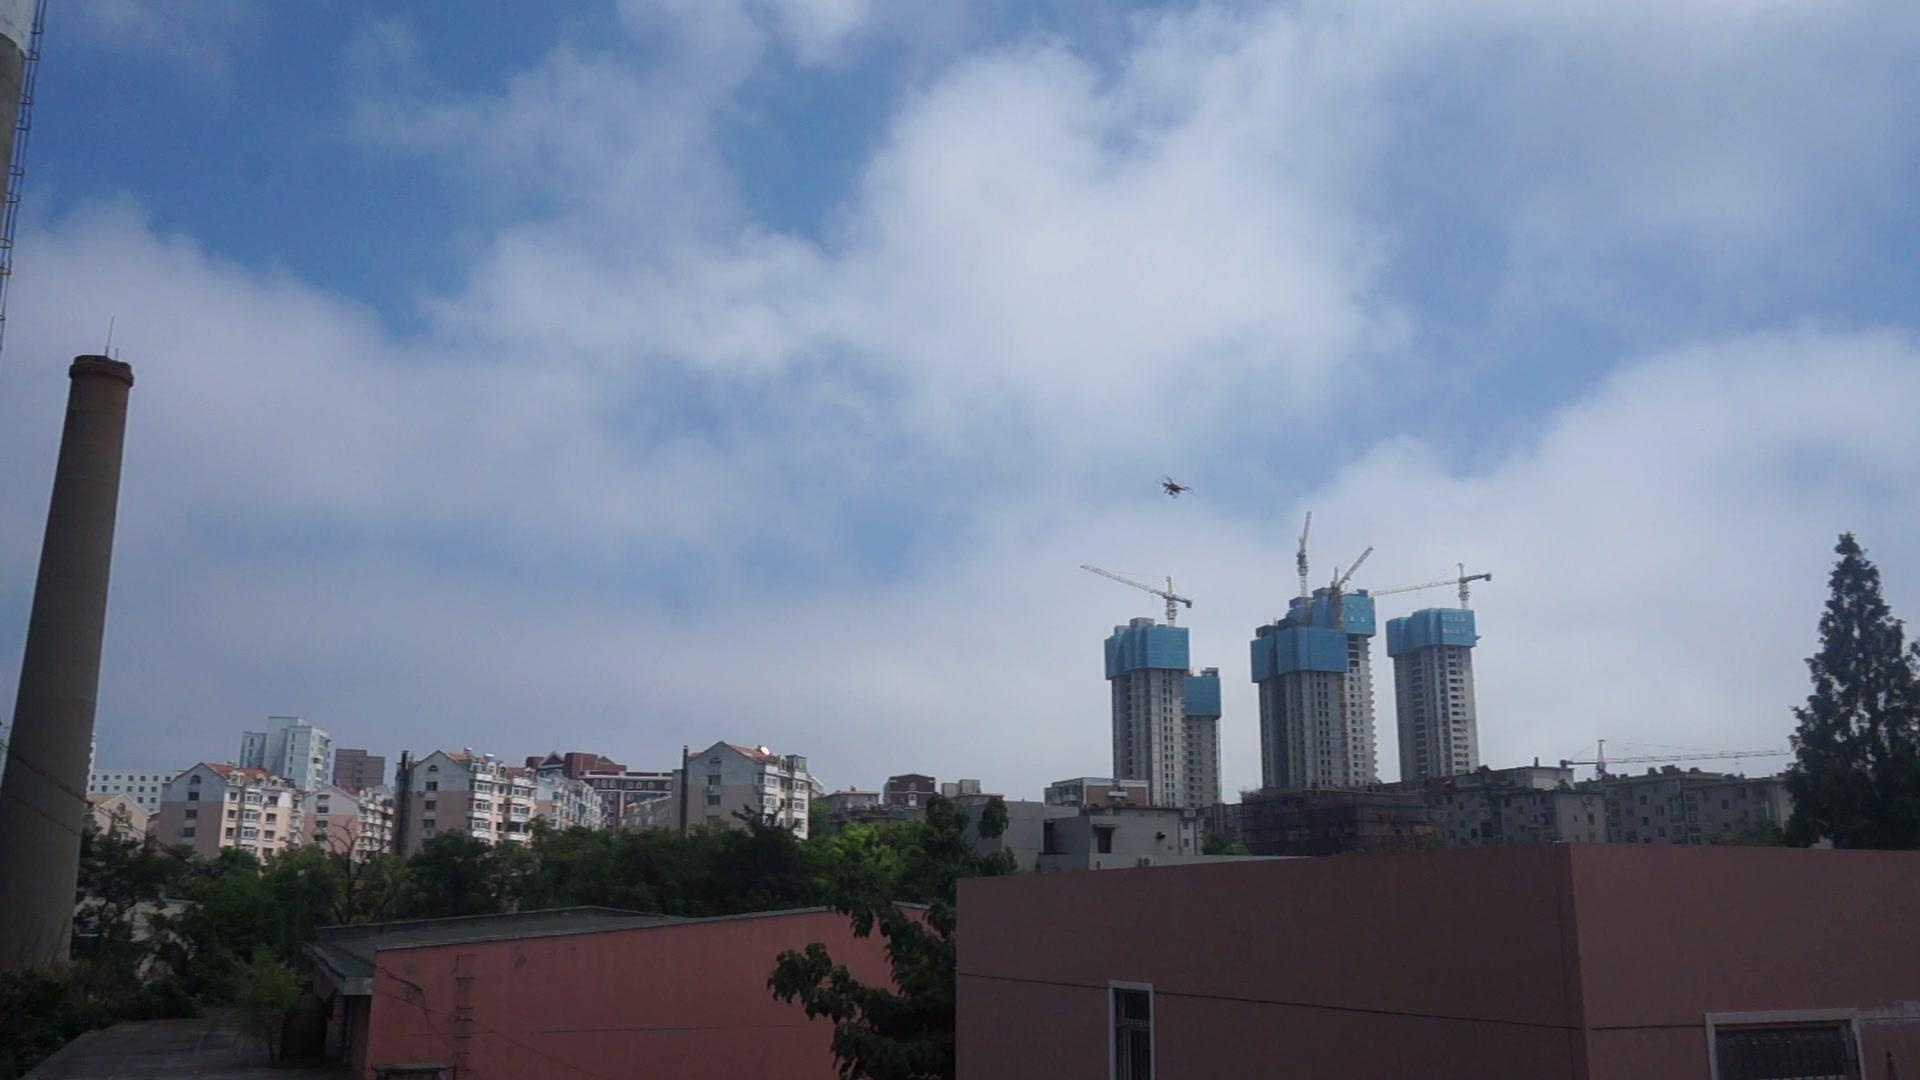UAV: (1156, 476, 1195, 500)
